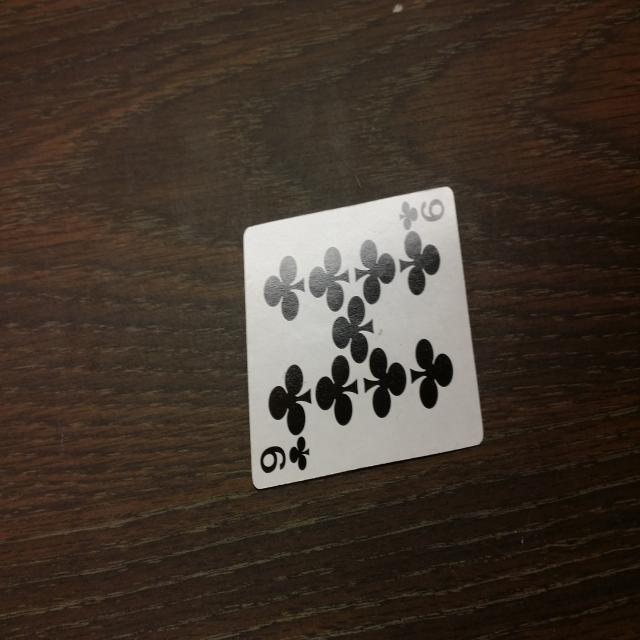9c: (252, 433, 316, 484), (396, 192, 448, 242)
